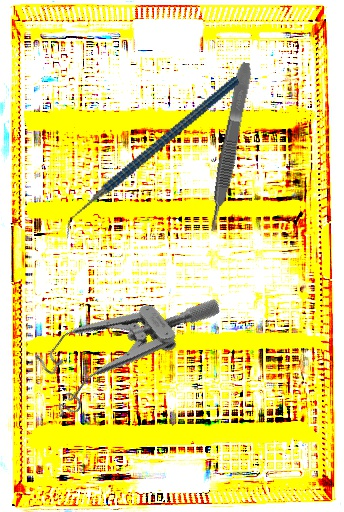Chopper: (34, 76, 270, 239)
Speculum: (19, 245, 223, 433)
Tissue Forceps: (202, 61, 256, 233)
